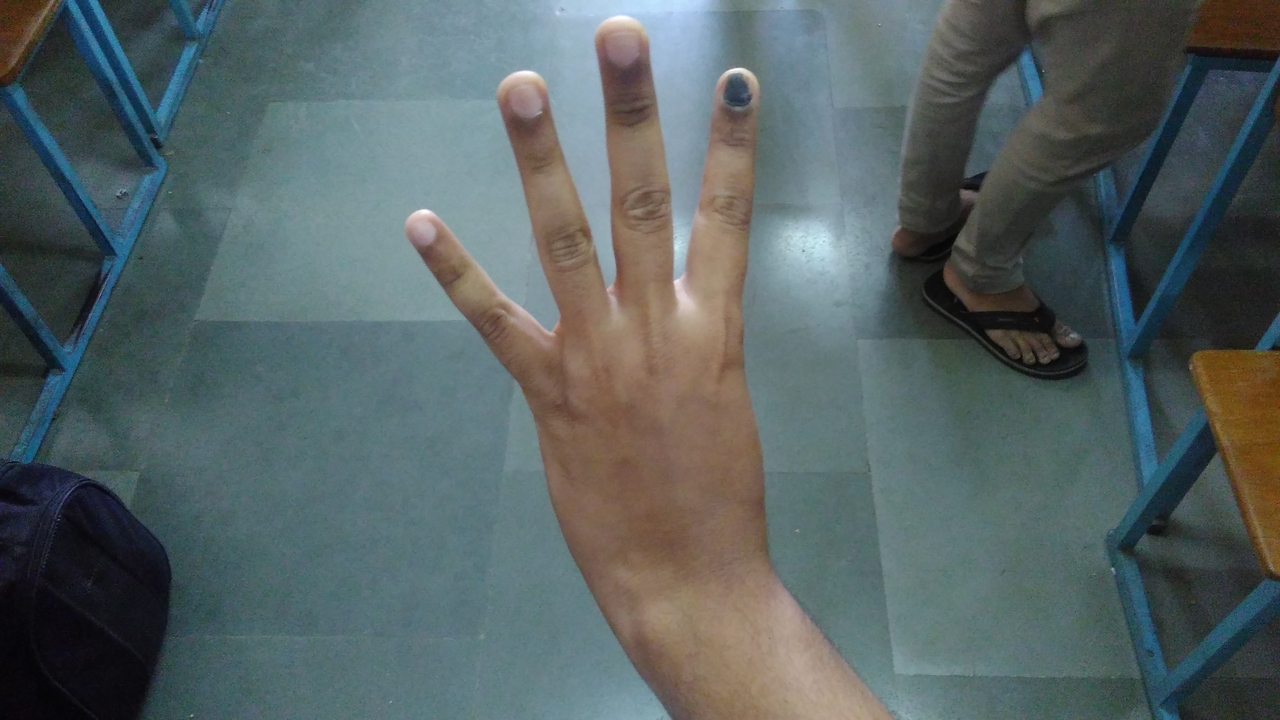fingertip: (590, 10, 652, 74), (490, 70, 556, 128), (396, 198, 452, 254), (710, 60, 768, 112)
